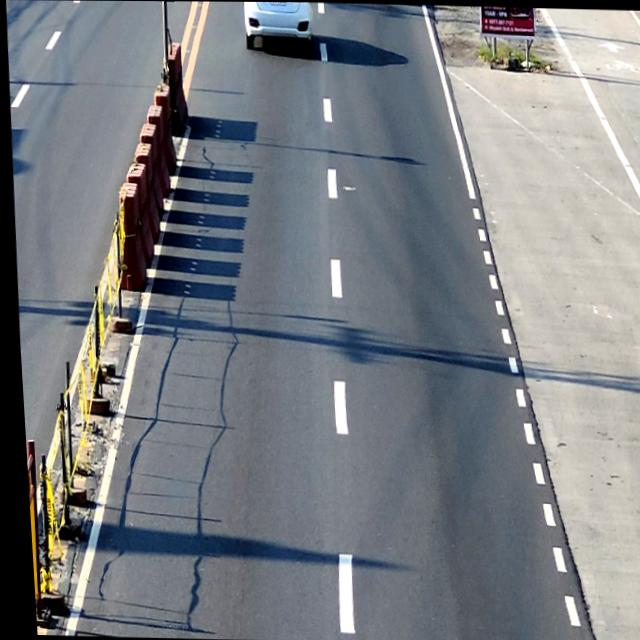Car: (242, 1, 312, 49)
